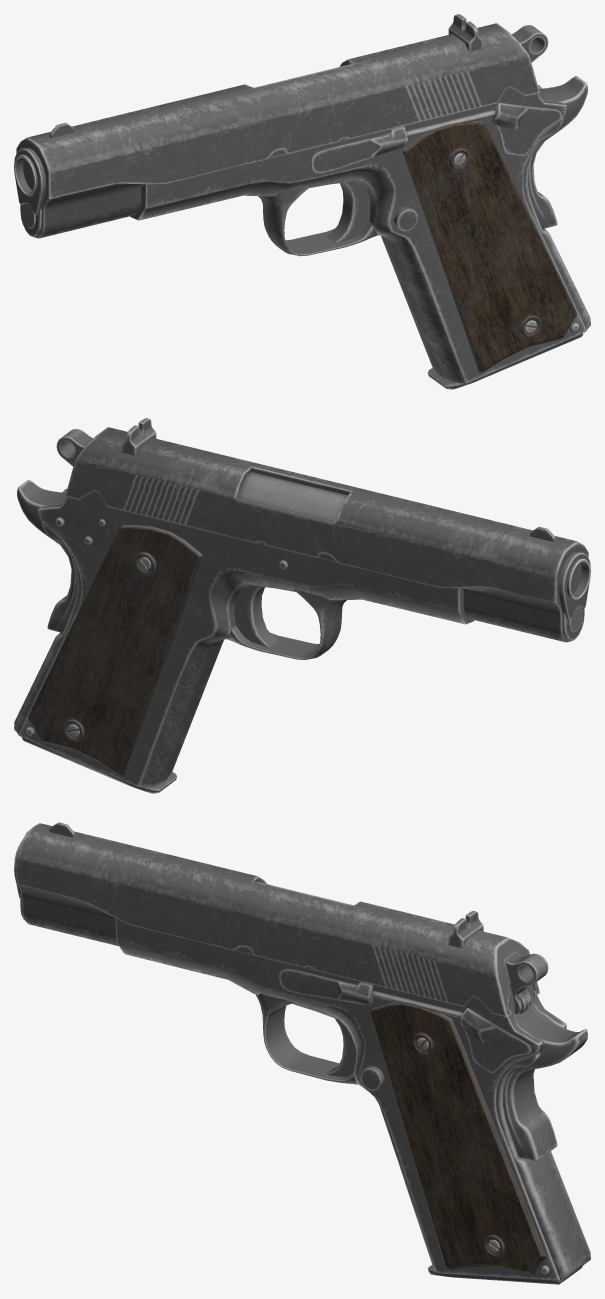
The model's file is colt_m1911.glb.
3 renders of one model, top to bottom at view 1: azimuth 30°, elevation 25°; view 2: azimuth 150°, elevation 25°; view 3: azimuth 330°, elevation 25°, orthographic.
Visible parts, largest first — view 1: up_low.001_3, handle_low.001_15, down_low.001_4, hammer2_low.001_11, sidePart2_low.001_31, handle3_low.001_20, sidePart_low.001_21, hammer_low.001_30, handle2_low.001_19, barrel2_low.001_6, upPart_low.001_9, scope_low.001_18 (+3 smaller); view 2: up_low.001_3, down_low.001_4, handle_low.001_15, insBarrel_low.001_28, hammer2_low.001_11, handle3_low.001_20, hammer_low.001_30, handle2_low.001_19, barrel2_low.001_6, upPart_low.001_9, scope_low.001_18, mag_low.001_2 (+1 smaller); view 3: up_low.001_3, handle_low.001_15, down_low.001_4, handle2_low.001_19, handle3_low.001_20, hammer2_low.001_11, sidePart2_low.001_31, sidePart_low.001_21, upPart_low.001_9, scope_low.001_18, hammer_low.001_30, mag_low.001_2 (+1 smaller).
Boxes of the visible parts, x1,y1,x2,y2 form: up_low.001_3: [16, 23, 539, 238]; handle_low.001_15: [402, 121, 576, 373]; down_low.001_4: [130, 85, 586, 383]; hammer2_low.001_11: [258, 185, 377, 256]; sidePart2_low.001_31: [492, 102, 561, 155]; handle3_low.001_20: [528, 76, 587, 228]; sidePart_low.001_21: [311, 126, 407, 173]; hammer_low.001_30: [326, 181, 370, 242]; handle2_low.001_19: [523, 117, 590, 329]; barrel2_low.001_6: [14, 147, 46, 215]; upPart_low.001_9: [511, 25, 548, 62]; scope_low.001_18: [448, 14, 483, 51]; up_low.001_3: [65, 427, 588, 642]; down_low.001_4: [18, 488, 474, 787]; handle_low.001_15: [28, 525, 202, 777]; insBarrel_low.001_28: [237, 472, 347, 522]; hammer2_low.001_11: [227, 589, 346, 659]; handle3_low.001_20: [17, 480, 76, 632]; hammer_low.001_30: [234, 585, 278, 646]; handle2_low.001_19: [14, 521, 81, 733]; barrel2_low.001_6: [558, 551, 590, 619]; upPart_low.001_9: [56, 429, 93, 466]; scope_low.001_18: [121, 418, 156, 455]; mag_low.001_2: [21, 737, 176, 793]; up_low.001_3: [16, 823, 539, 1017]; handle_low.001_15: [370, 1002, 546, 1274]; down_low.001_4: [115, 918, 566, 1280]; handle2_low.001_19: [496, 1052, 590, 1280]; handle3_low.001_20: [503, 1006, 587, 1160]; hammer2_low.001_11: [255, 993, 357, 1084]; sidePart2_low.001_31: [460, 1008, 531, 1073]; sidePart_low.001_21: [279, 968, 373, 1005]; upPart_low.001_9: [505, 953, 548, 1014]; scope_low.001_18: [448, 911, 483, 948]; hammer_low.001_30: [326, 1018, 356, 1077]; mag_low.001_2: [428, 1265, 582, 1284].
Bounding box in the file's own units: 2.43 × 1.48 × 0.2887.
Materials: 2 (2 with a texture image).
